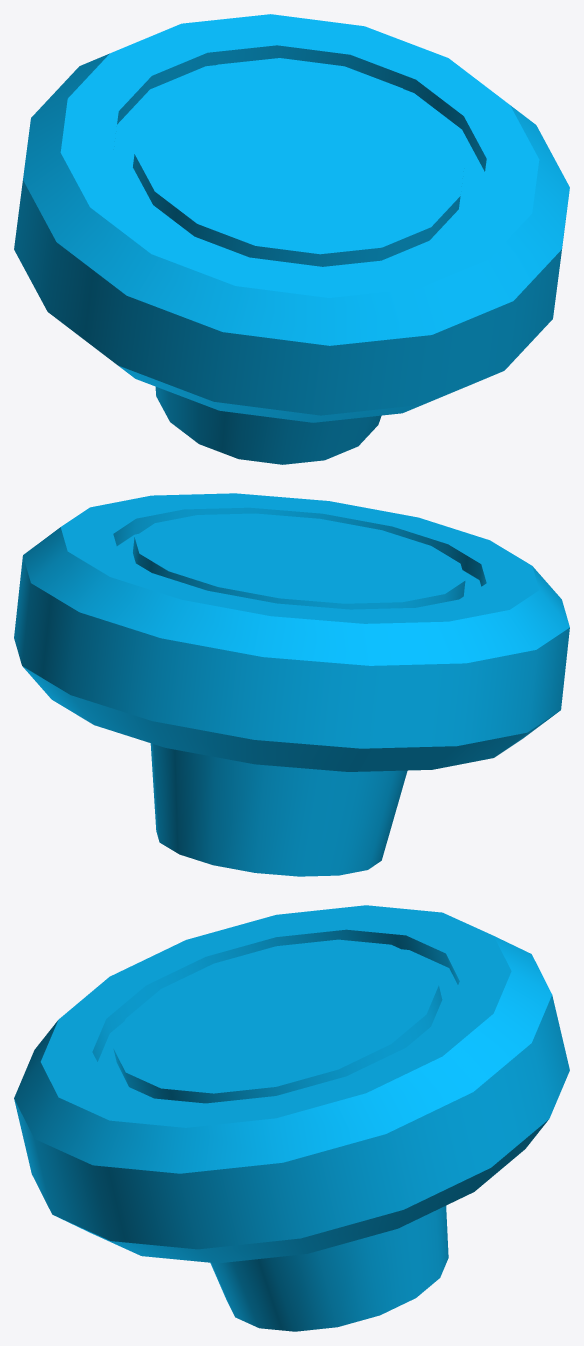
Rendered from rover_BlueButt.gltf.
The picture shows the model from 3 angles, top to bottom: view 1: azimuth 30°, elevation 25°; view 2: azimuth 150°, elevation 25°; view 3: azimuth 270°, elevation 25°; orthographic projection.
Parts seen in each view (by area): view 1: button_geo1.004; view 2: button_geo1.004; view 3: button_geo1.004.
Boxes of the visible parts, x1,y1,x2,y2 form: button_geo1.004: (14, 14, 569, 464); button_geo1.004: (14, 493, 569, 876); button_geo1.004: (14, 905, 569, 1331).
Bounding box in the file's own units: 0.72 × 0.4756 × 0.7275.
